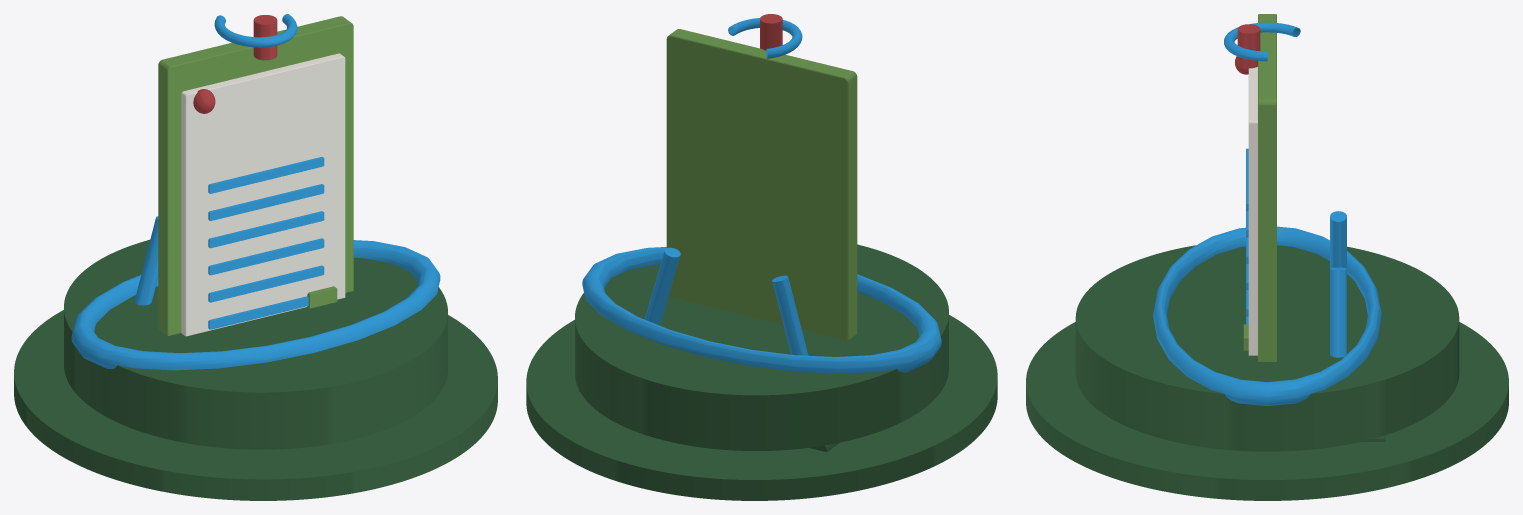
The model's file is 1100_左传_郑国地图.glb.
3 renders of one model, left to right at view 1: azimuth 30°, elevation 25°; view 2: azimuth 150°, elevation 25°; view 3: azimuth 270°, elevation 25°, orthographic. The views are drawn at different scales.
Parts seen in each view (by area): view 1: card_1100; view 2: card_1100; view 3: card_1100.
Boxes of the visible parts, x1,y1,x2,y2 form: card_1100: (14, 14, 497, 500); card_1100: (526, 14, 997, 500); card_1100: (1026, 14, 1508, 500).
Bounding box in the file's own units: 1.13 × 1 × 1.17.
